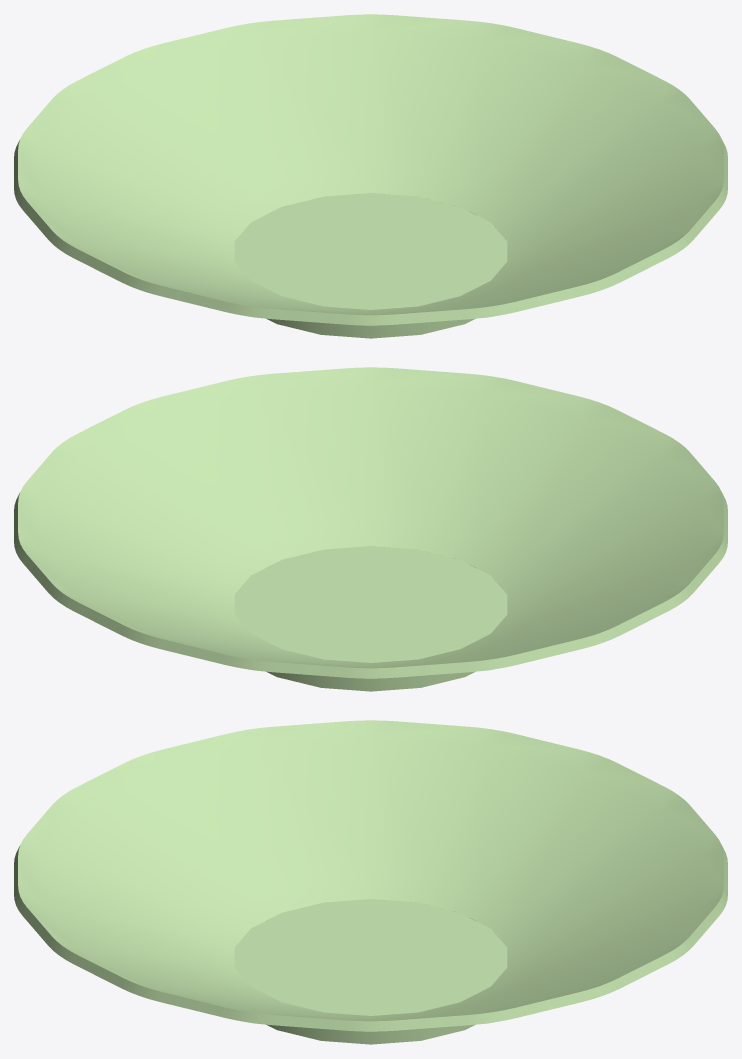
Rendered from panzi.fbx.
3 views of the same model, one above another, from view 1: azimuth 30°, elevation 25°; view 2: azimuth 150°, elevation 25°; view 3: azimuth 270°, elevation 25° (orthographic).
Parts seen in each view (by area): view 1: 盘子; view 2: 盘子; view 3: 盘子.
Boxes of the visible parts, left/top/right/bottom form: 盘子: left=14, top=14, right=727, bottom=338; 盘子: left=14, top=367, right=727, bottom=691; 盘子: left=14, top=720, right=727, bottom=1044.
Bounding box in the file's own units: 4.1 × 0.7033 × 4.07.
